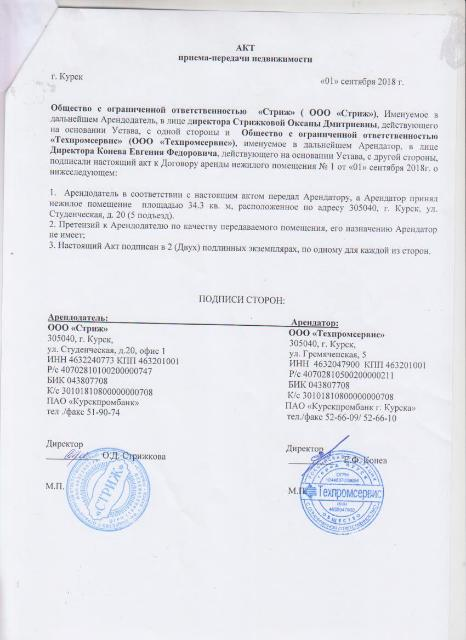stamp: (299, 449, 383, 536), (66, 447, 150, 531)
